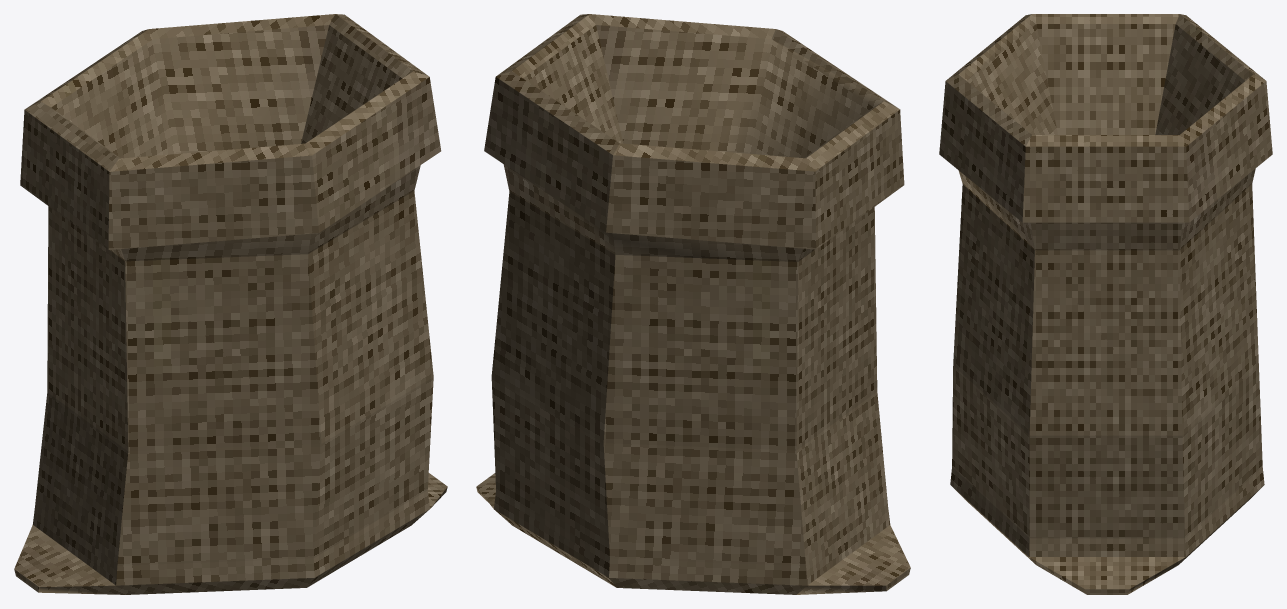
The model's file is jutesack_open.glb.
3 views of the same model, side by side, from view 1: azimuth 30°, elevation 25°; view 2: azimuth 150°, elevation 25°; view 3: azimuth 270°, elevation 25° (orthographic). The views are drawn at different scales.
Parts seen in each view (by area): view 1: jutesack_open; view 2: jutesack_open; view 3: jutesack_open.
Boxes of the visible parts, box(x1,y1,x2,y2) form: jutesack_open: box(14, 14, 447, 594); jutesack_open: box(476, 14, 910, 594); jutesack_open: box(939, 14, 1272, 594).
Bounding box in the file's own units: 0.9117 × 0.9709 × 0.6802.
Materials: 1 (1 with a texture image).
